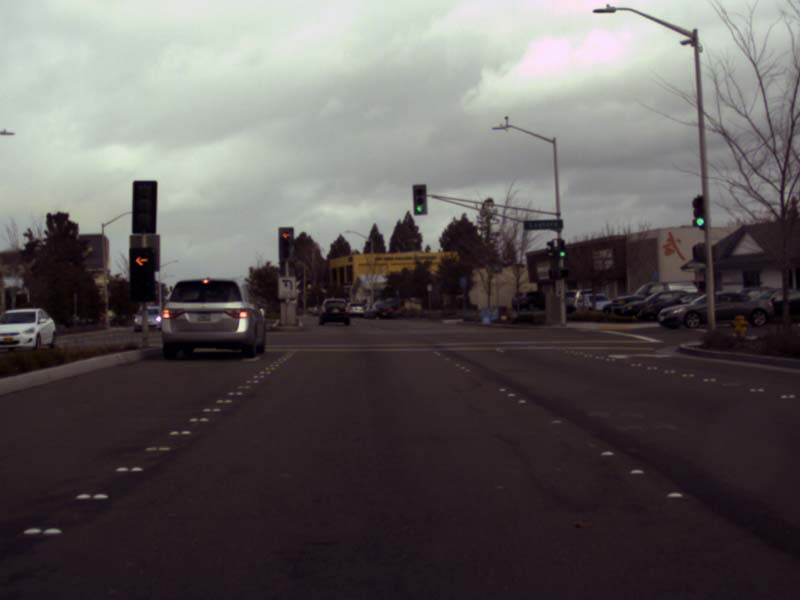Green: (413, 185, 426, 214), (693, 198, 703, 226), (558, 240, 565, 257)
Red: (131, 248, 152, 299), (279, 228, 293, 260)
